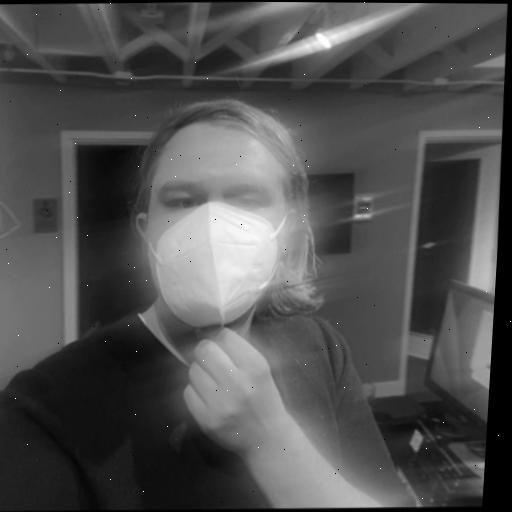mask: (108, 93, 322, 344)
